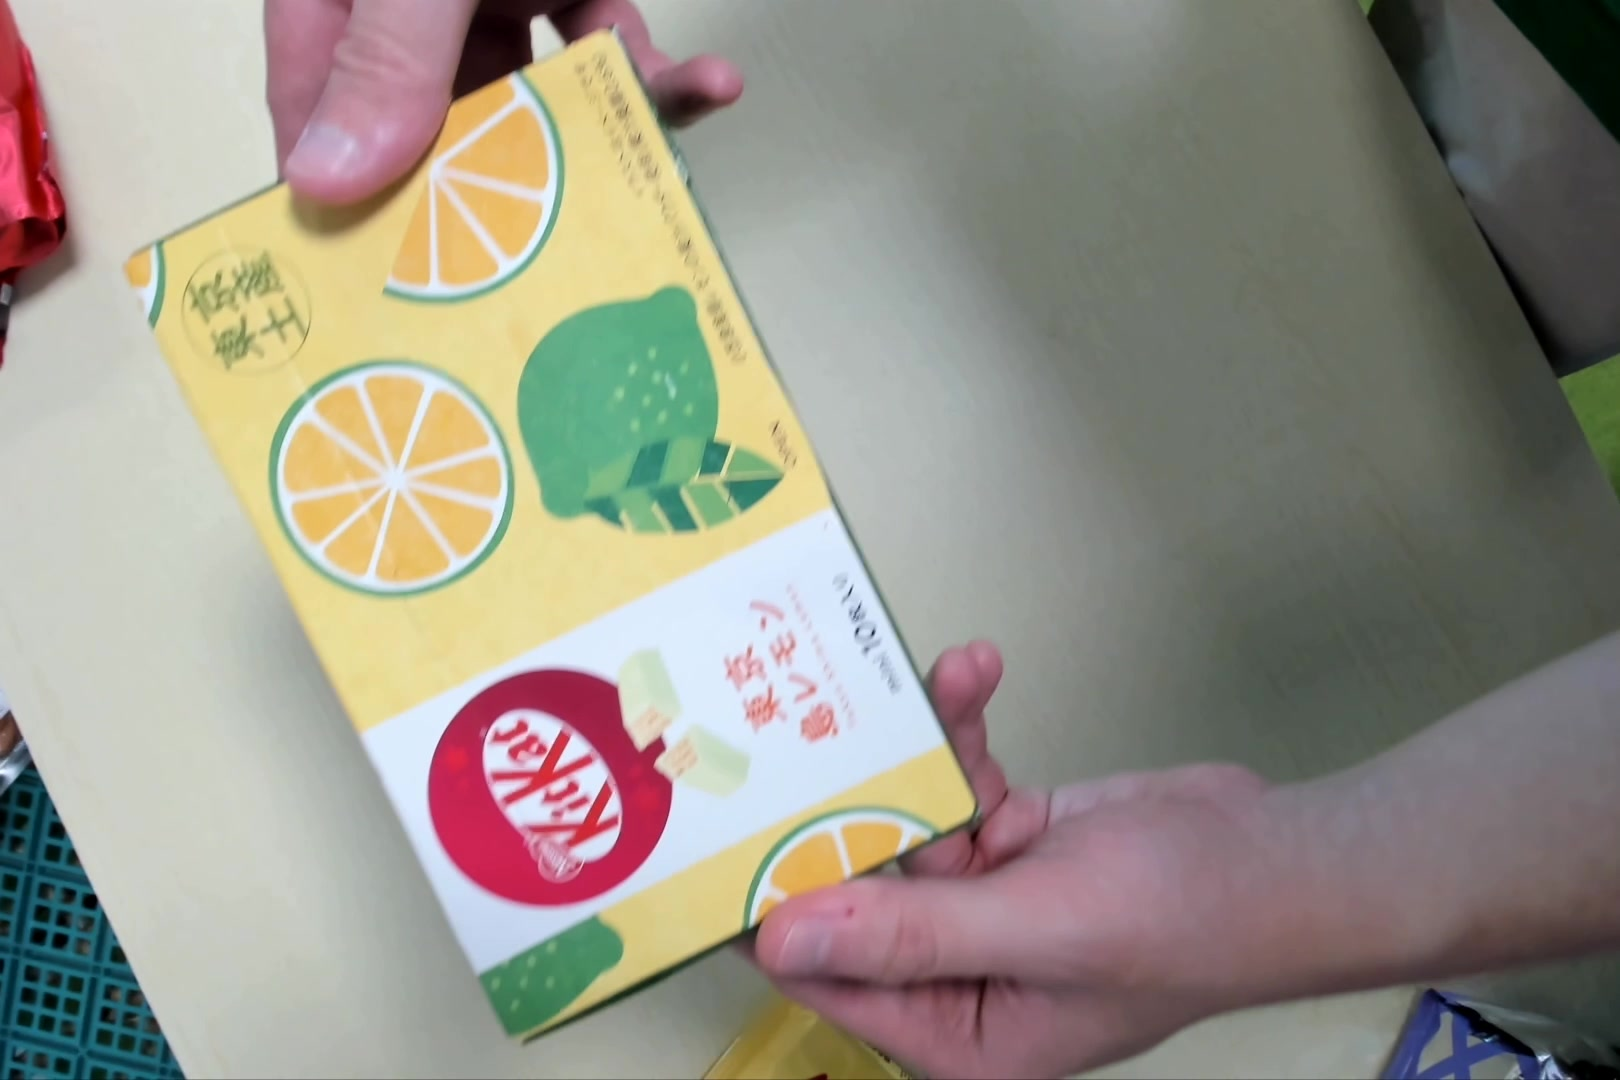SweetsChocolatesOthers_100-199g_NonHalal_NonHealthy: (127, 23, 980, 1035)
